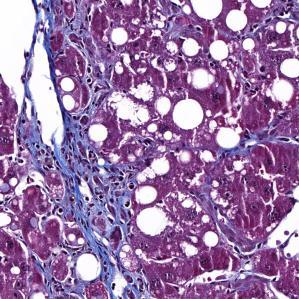fibrosis: (53, 148, 135, 225), (90, 239, 153, 299), (41, 0, 100, 53)
